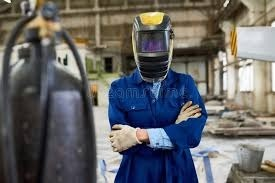person without safety: (99, 9, 212, 183)
